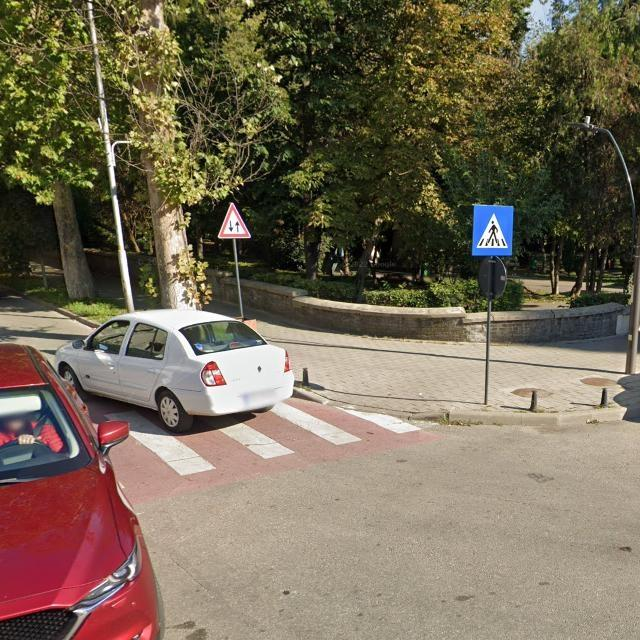info_crosswalk: (472, 204, 514, 256)
